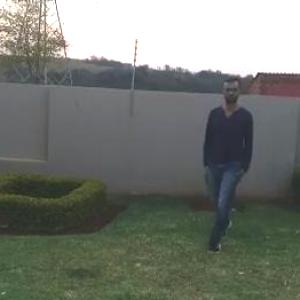follow: (200, 76, 256, 245)
